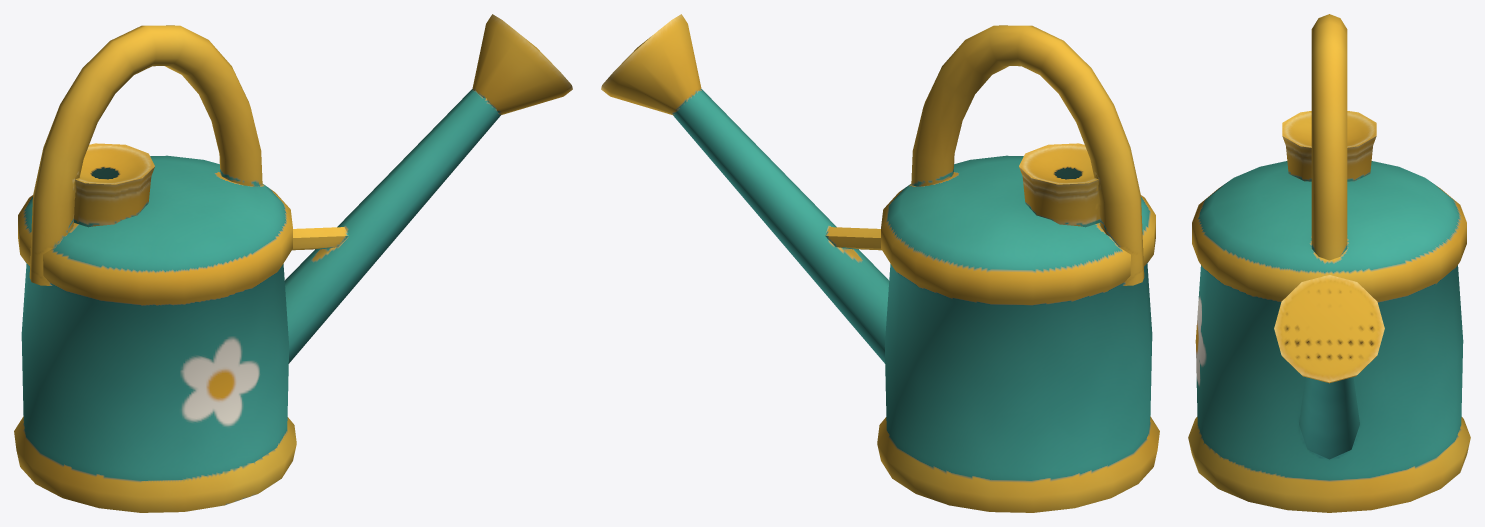
The model's file is watering_can.glb.
The picture shows the model from 3 angles, left to right: view 1: azimuth 30°, elevation 25°; view 2: azimuth 150°, elevation 25°; view 3: azimuth 270°, elevation 25°; orthographic projection.
Visible parts, largest first — view 1: watering_can; view 2: watering_can; view 3: watering_can.
Part boxes in pixels (<box>): watering_can: <box>14,14,572,512</box>; watering_can: <box>601,14,1159,512</box>; watering_can: <box>1188,14,1470,512</box>.
Bounding box in the file's own units: 0.3195 × 0.2575 × 0.148.
1 material, 1 textured.
